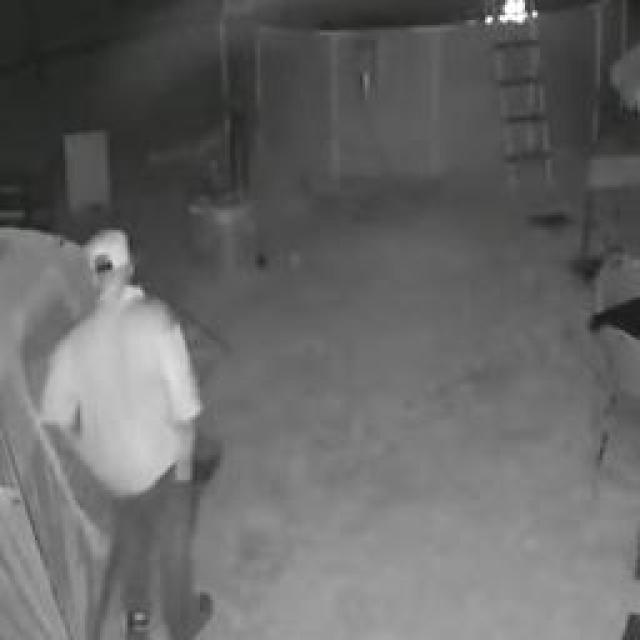person: (35, 200, 250, 638)
